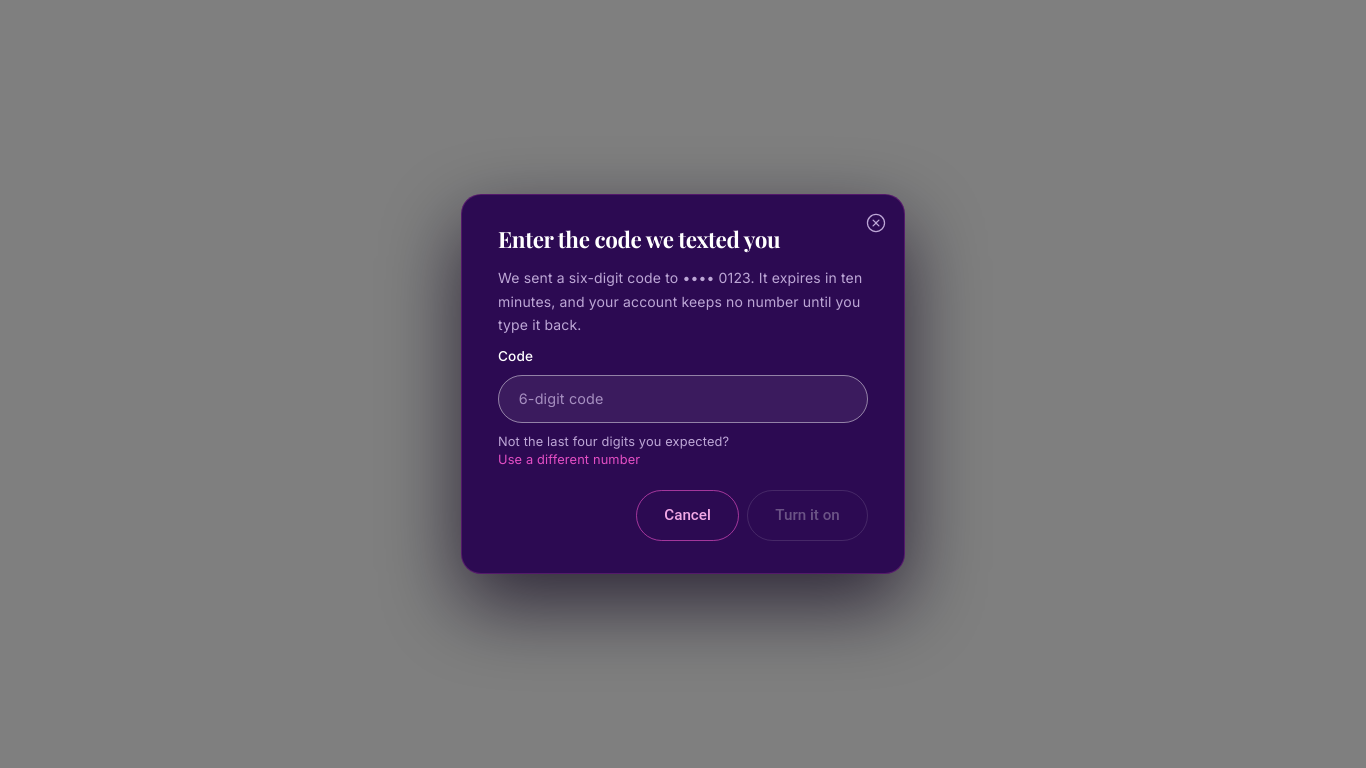
Test: the second step: the code › takes digits only, and no more than six
The width and height of the screenshot is (1366, 768).
Type "48a39201" into the field labelled "Code" at (683, 399), box x1=498 y1=375 x2=868 y2=423
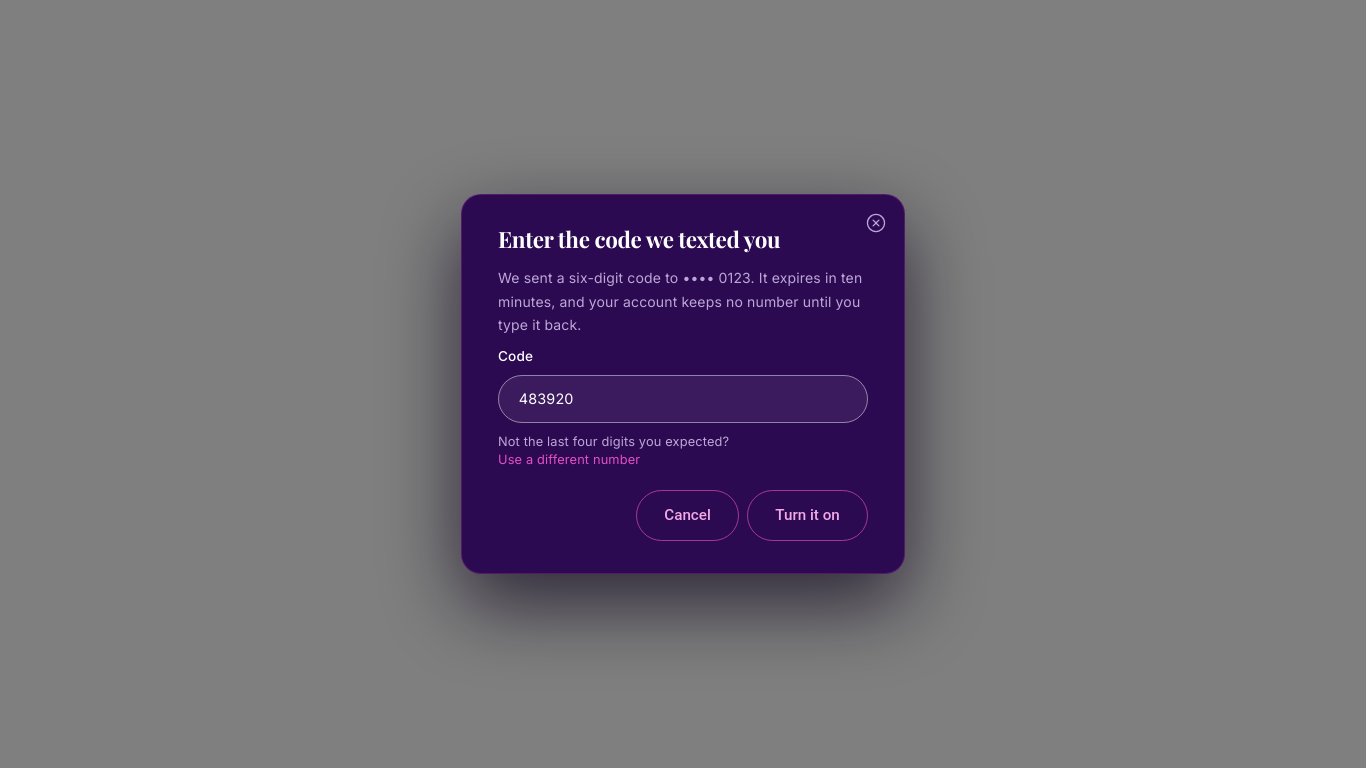
Expected: the field labelled "Code" holds "483920", x1=498 y1=375 x2=868 y2=423
